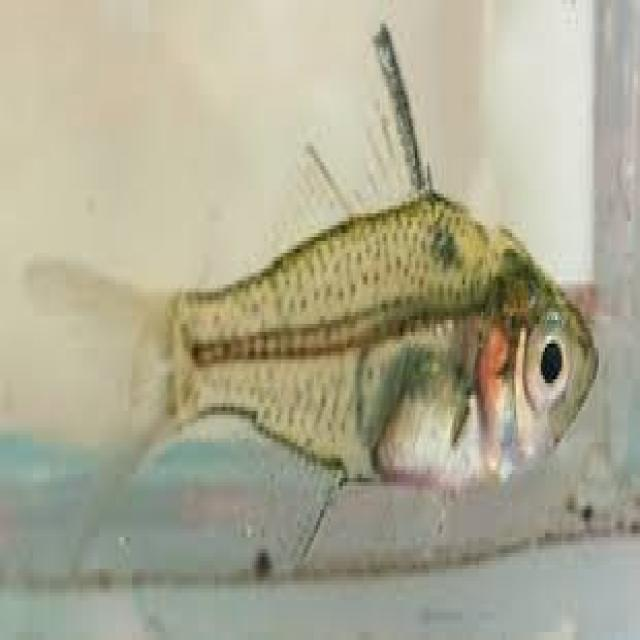Glass-Perchlet: (4, 79, 614, 640)
